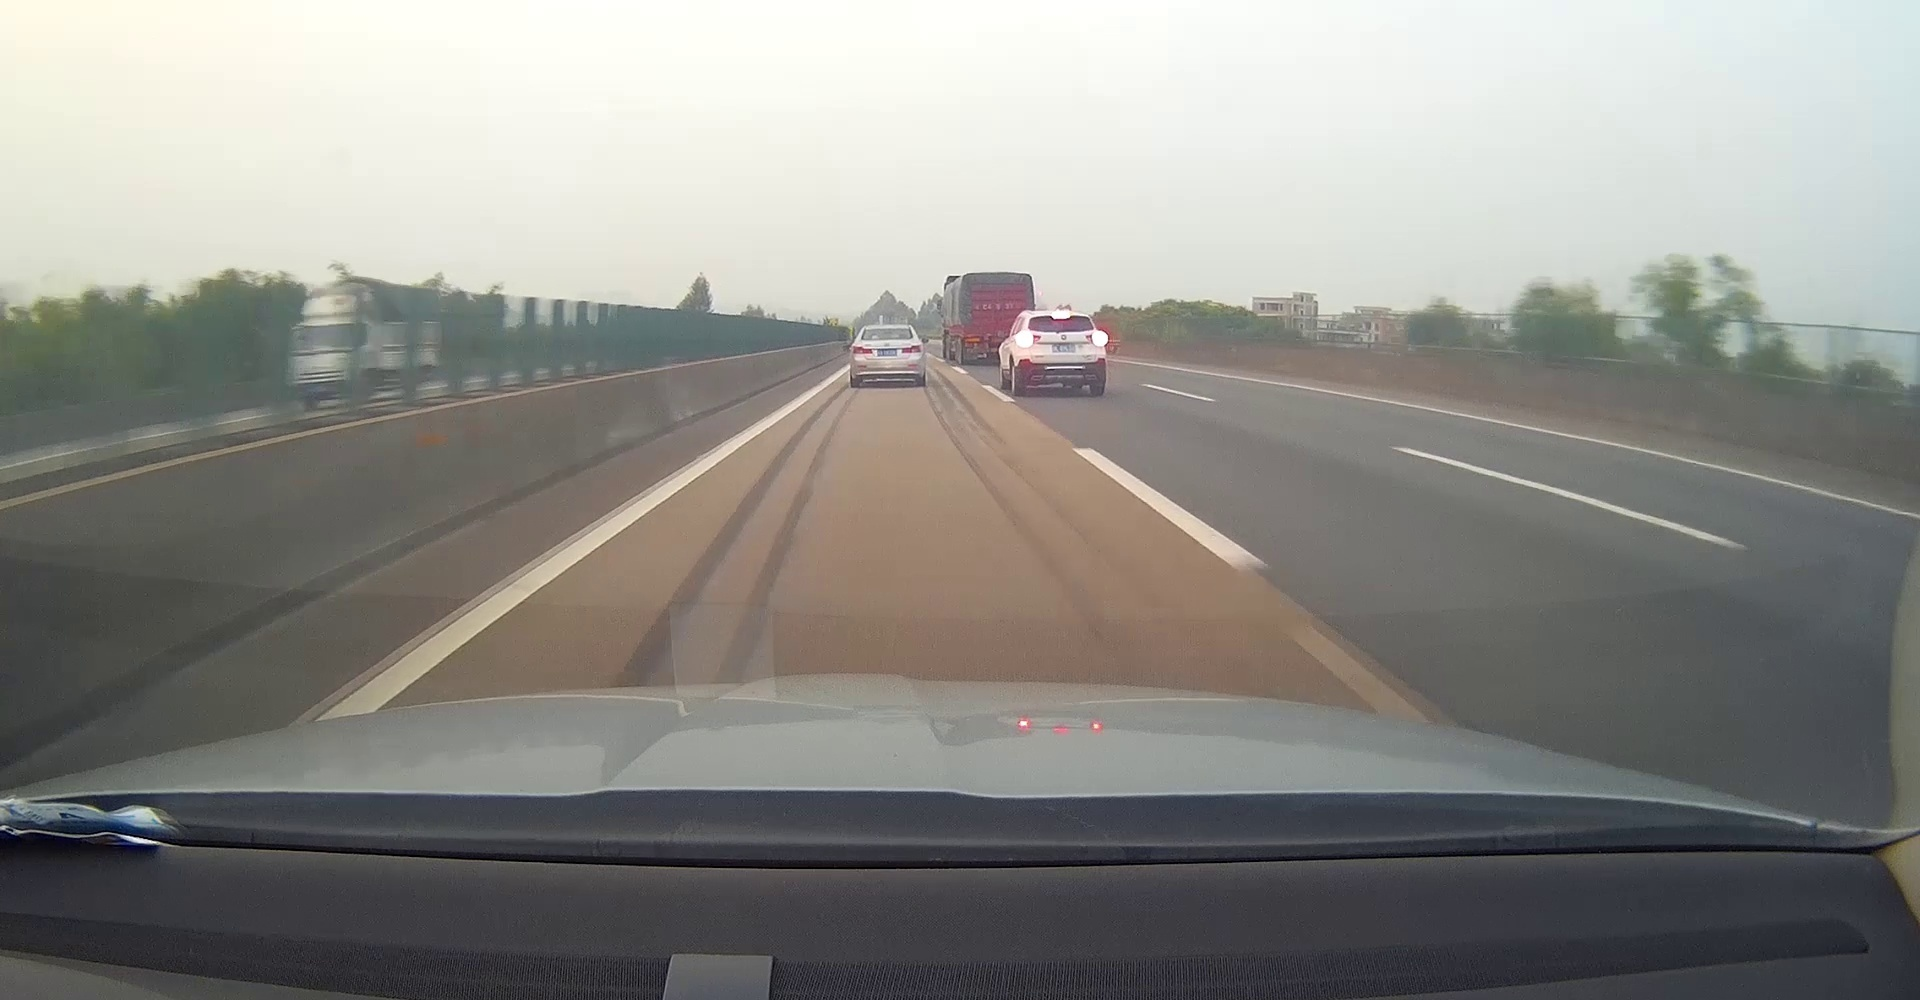L_light: (1018, 332, 1040, 343), (852, 346, 872, 354)
R_light: (1084, 335, 1103, 343), (902, 345, 921, 353)
T_light: (1055, 315, 1068, 319), (883, 329, 895, 331)
day-brake: (1015, 312, 1106, 396)
day-no: (850, 326, 924, 387)
